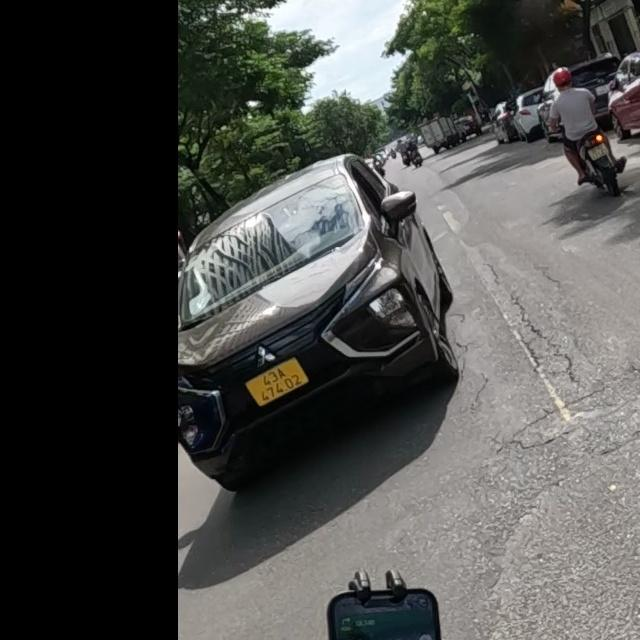license-plate: (242, 356, 311, 409)
